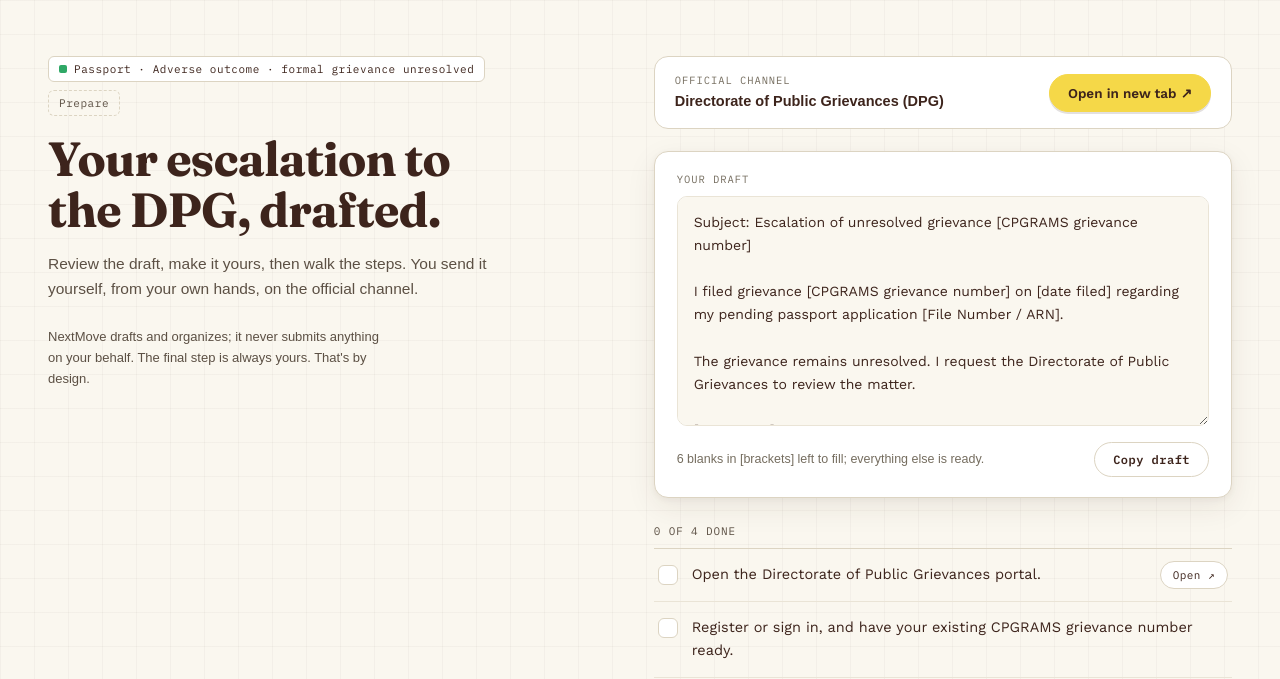
Test: the draft card › keeps the count from the MOMENT OF COPYING even if the user edits during the flash
Replace the text in the text box named "Editable draft" with "a [x] b [y]" at (943, 311), box [677,196,1209,426]
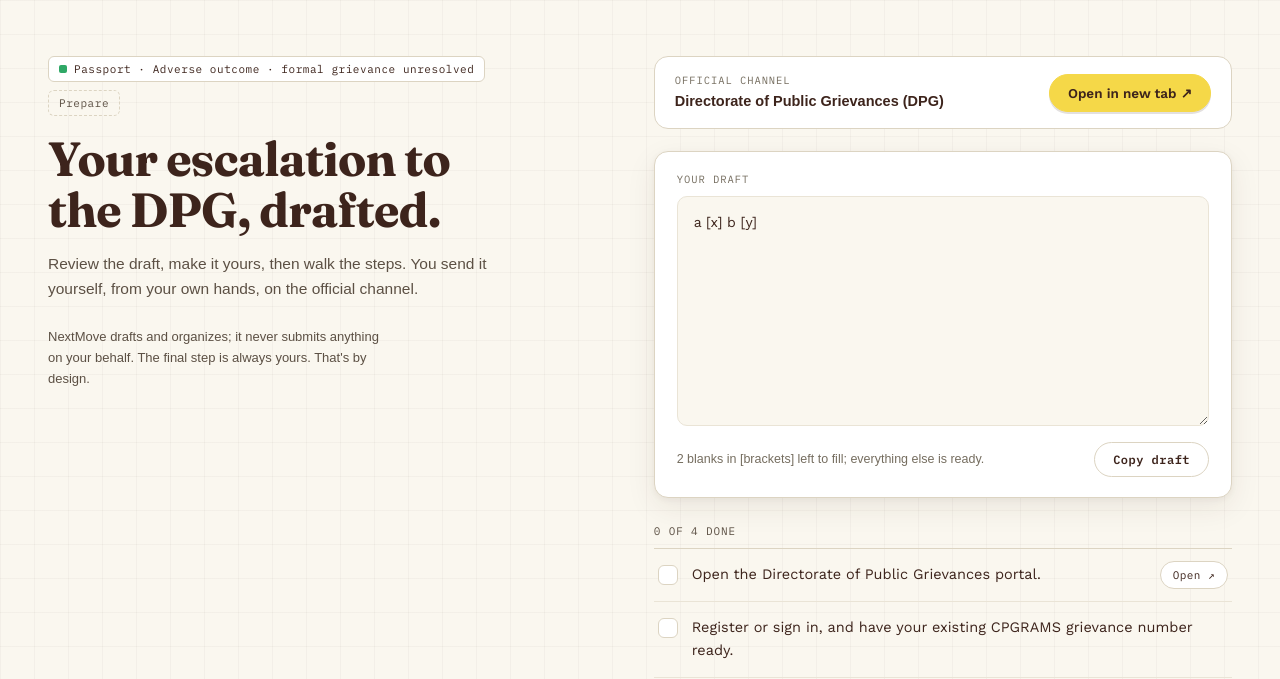
Click the button "Copy draft" at (1152, 460), box [1094,442,1209,477]
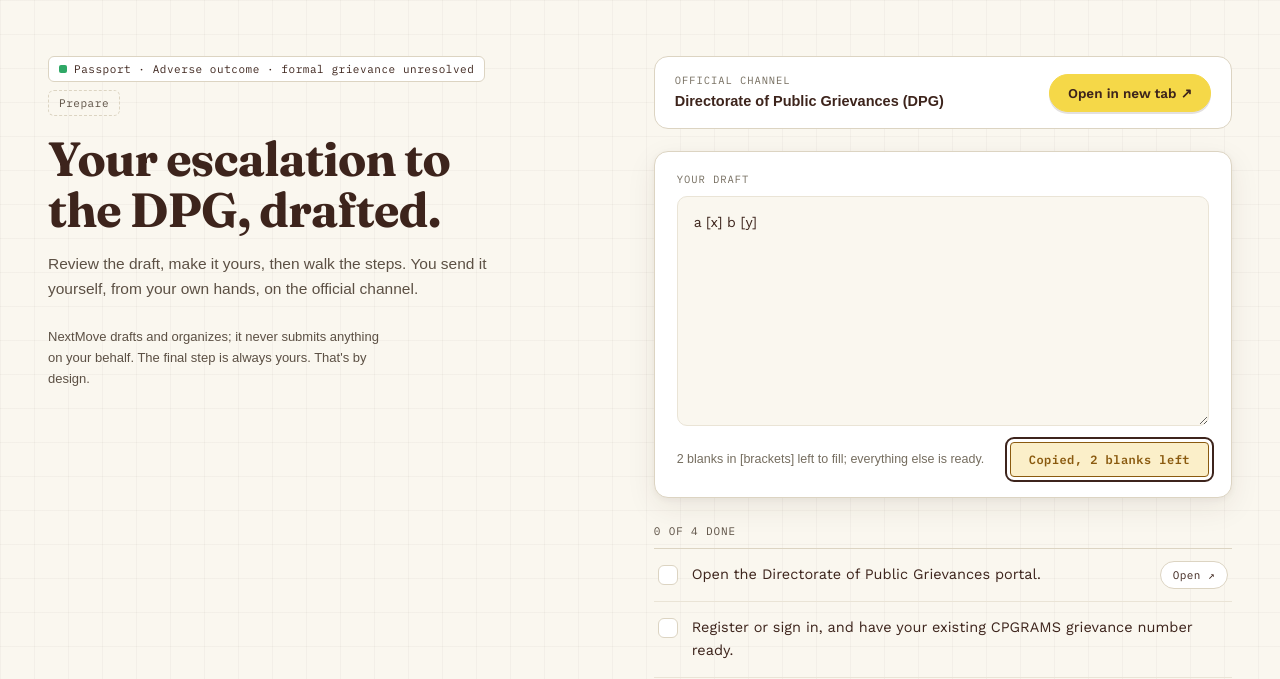
Replace the text in the text box named "Editable draft" with "no blanks now" at (943, 311), box [677,196,1209,426]
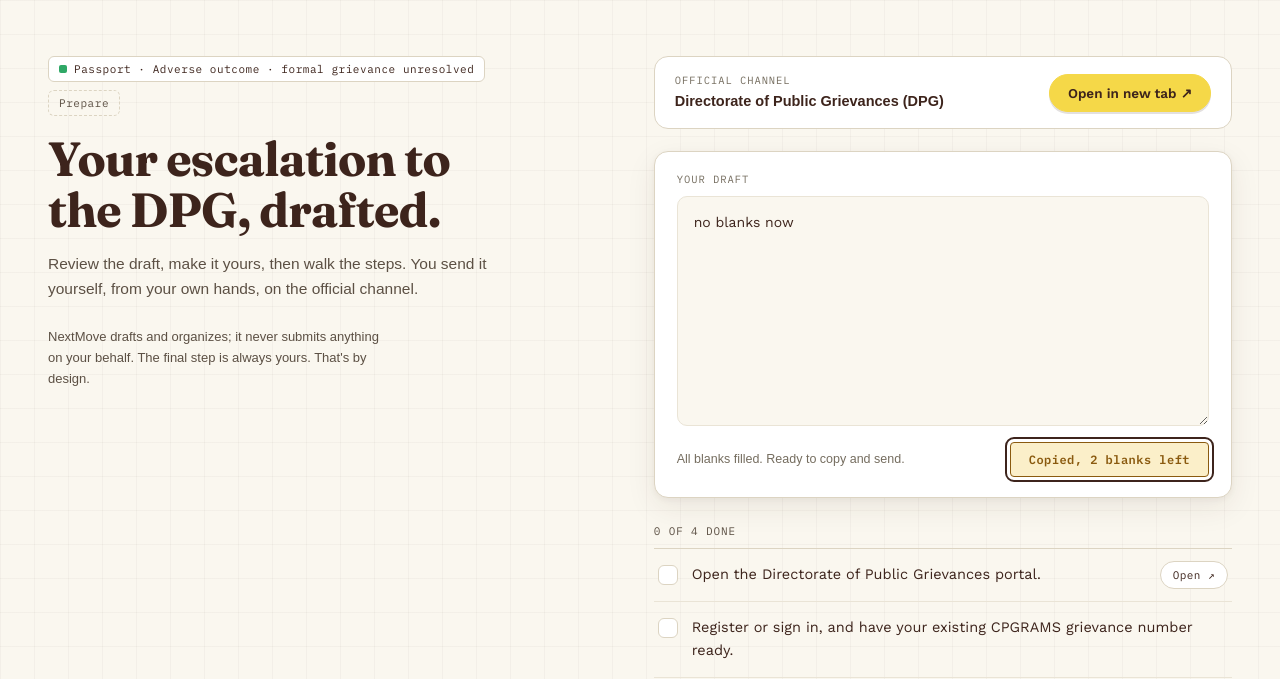
Now the text "All blanks filled. Ready to copy and send." is shown, box [677,452,905,466]
